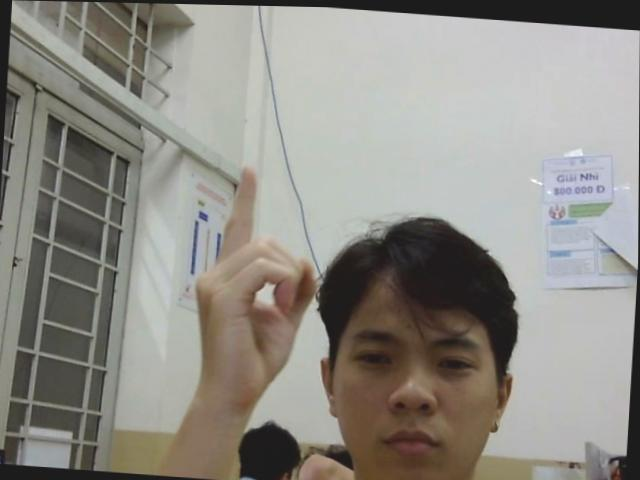D: (186, 159, 325, 406)
